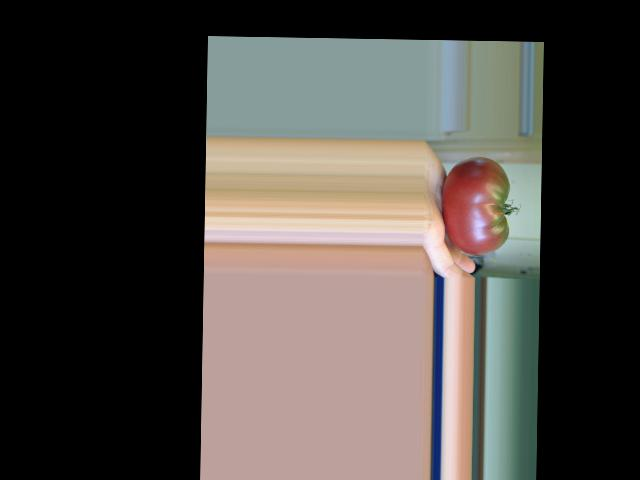tomato: (440, 156, 510, 255)
